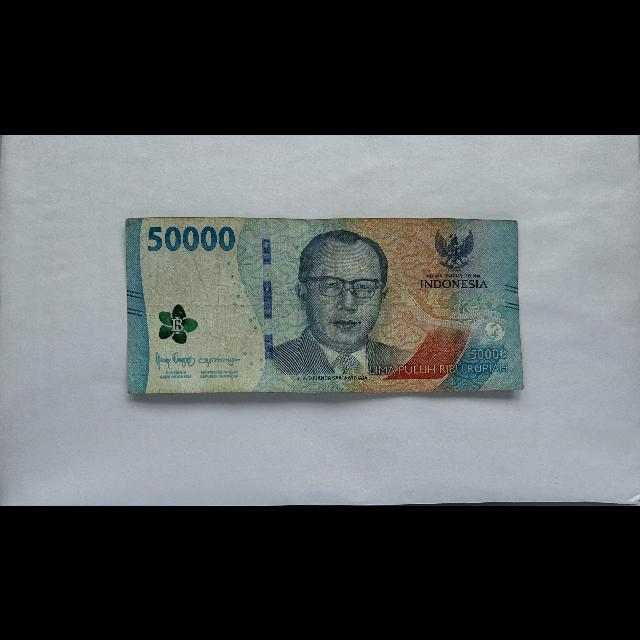Asli-50k: (125, 214, 526, 395)
Tinta-Asli-50k: (158, 302, 199, 345)
